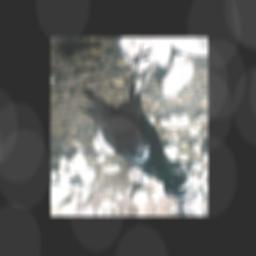Crow: (78, 42, 192, 206)
